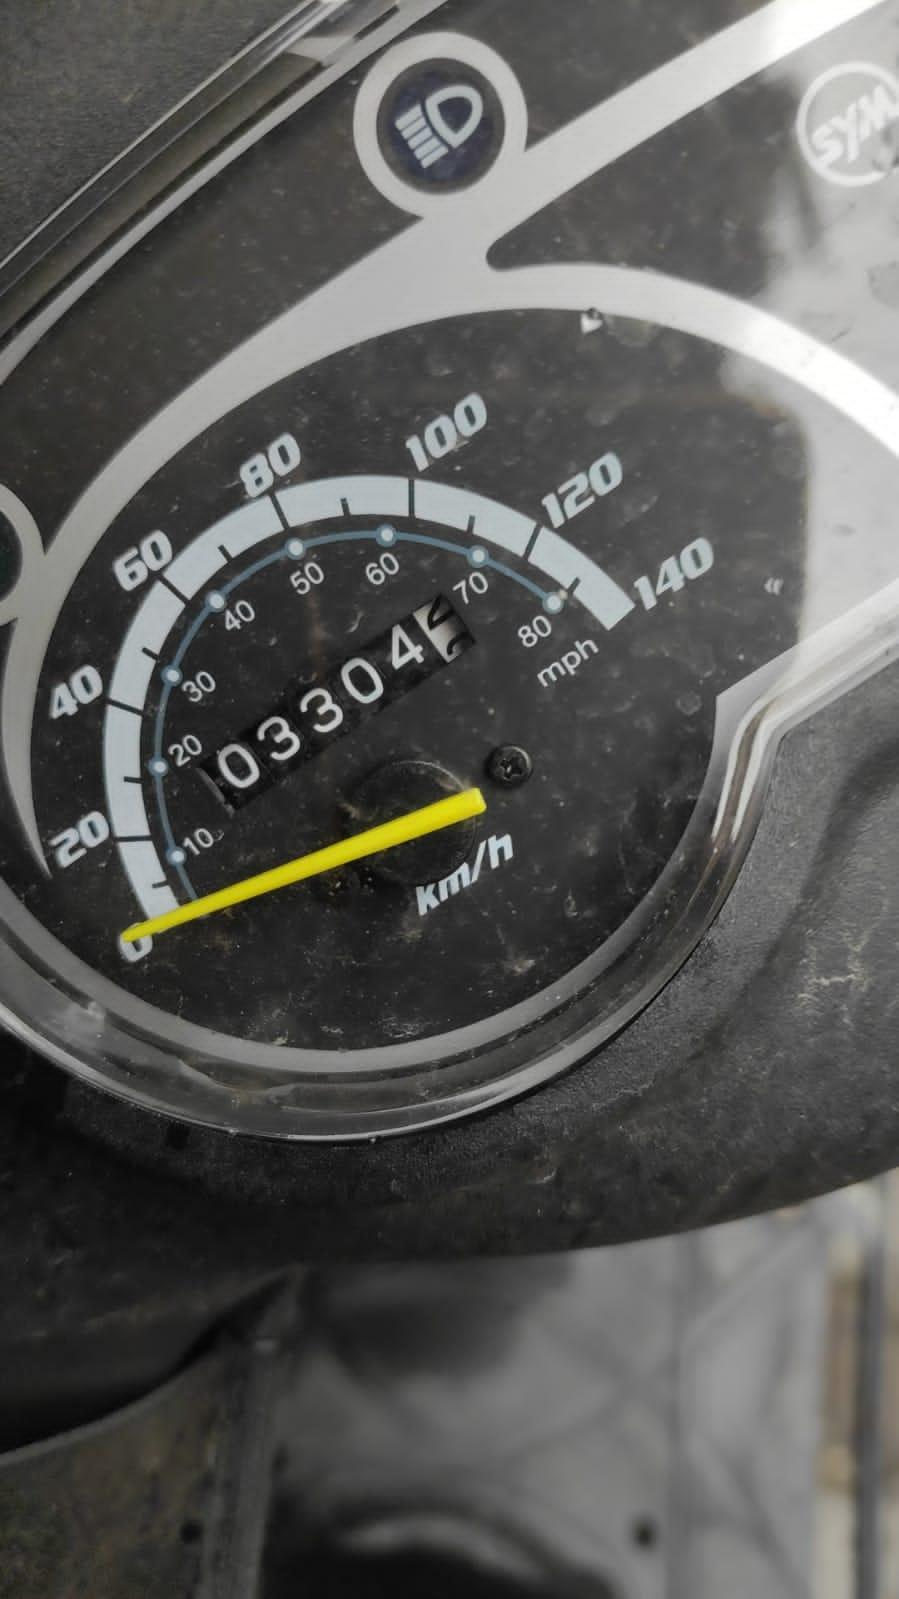0: (216, 740, 263, 789), (340, 656, 384, 705), (235, 599, 254, 623), (196, 670, 216, 692), (184, 734, 201, 757)
2: (418, 591, 457, 631)
3: (255, 712, 301, 762), (297, 683, 342, 735), (186, 680, 202, 703)
4: (389, 623, 425, 672), (221, 608, 241, 631)
7: (451, 583, 470, 607)
odometer: (184, 583, 480, 819)
